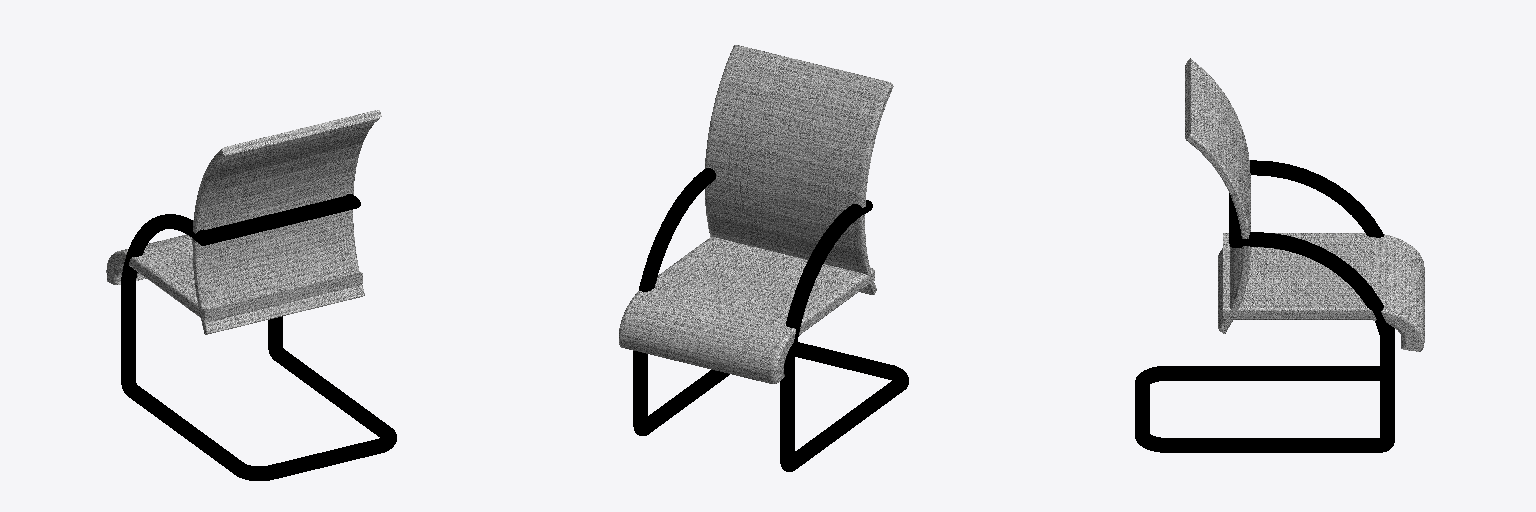
The picture shows the model from 3 angles: view 1: azimuth 30°, elevation 25°; view 2: azimuth 150°, elevation 25°; view 3: azimuth 270°, elevation 25°; orthographic projection.
Parts seen in each view (by area): view 1: group_2_ID32, group_1_ID17, group_0_ID3; view 2: group_2_ID32, group_0_ID3, group_1_ID17; view 3: group_1_ID17, group_0_ID3, group_2_ID32.
Boxes of the visible parts, x1=… form: group_2_ID32: x1=192, y1=110, x2=381, y2=334; group_1_ID17: x1=121, y1=194, x2=396, y2=480; group_0_ID3: x1=106, y1=234, x2=362, y2=321; group_2_ID32: x1=705, y1=45, x2=893, y2=294; group_0_ID3: x1=619, y1=237, x2=874, y2=383; group_1_ID17: x1=633, y1=168, x2=908, y2=471; group_1_ID17: x1=1135, y1=160, x2=1394, y2=452; group_0_ID3: x1=1223, y1=233, x2=1424, y2=351; group_2_ID32: x1=1185, y1=58, x2=1250, y2=333.
Bounding box in the file's own units: 0.3745 × 0.7175 × 0.5873.
Materials: 3 (1 with a texture image).